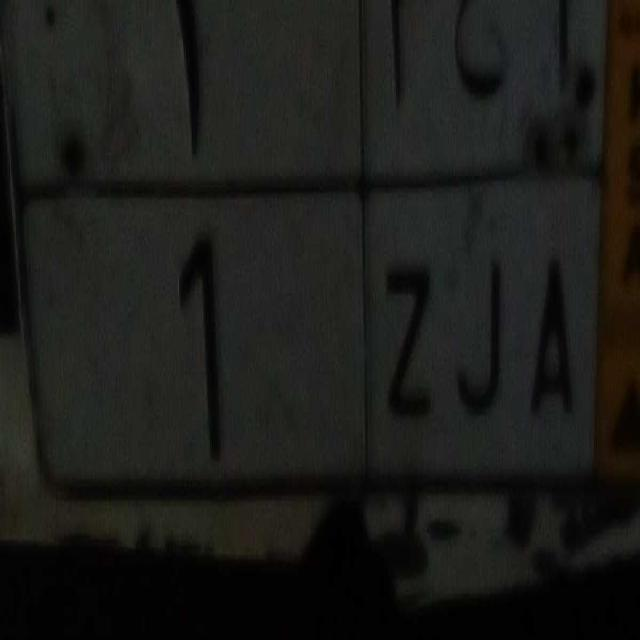license_plate: (16, 177, 595, 493)
